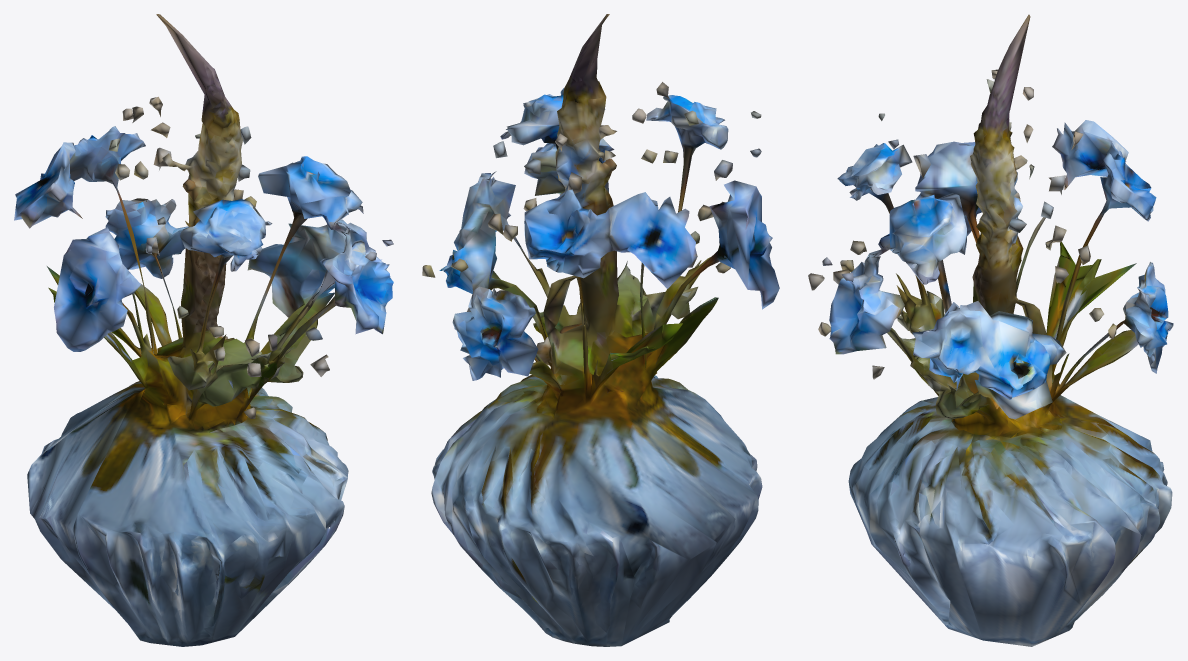
Rendered from muschel-vase-3d.glb.
3 renders of one model, left to right at view 1: azimuth 30°, elevation 25°; view 2: azimuth 150°, elevation 25°; view 3: azimuth 270°, elevation 25°, orthographic. The views are drawn at different scales.
Visible parts, largest first — view 1: input; view 2: input; view 3: input.
Part boxes in pixels (box(x1,y1,x2,y2)): input: box(14, 14, 393, 646); input: box(422, 14, 779, 646); input: box(808, 14, 1173, 646).
Bounding box in the file's own units: 0.1838 × 0.3493 × 0.1923.
Materials: 1 (1 with a texture image).
